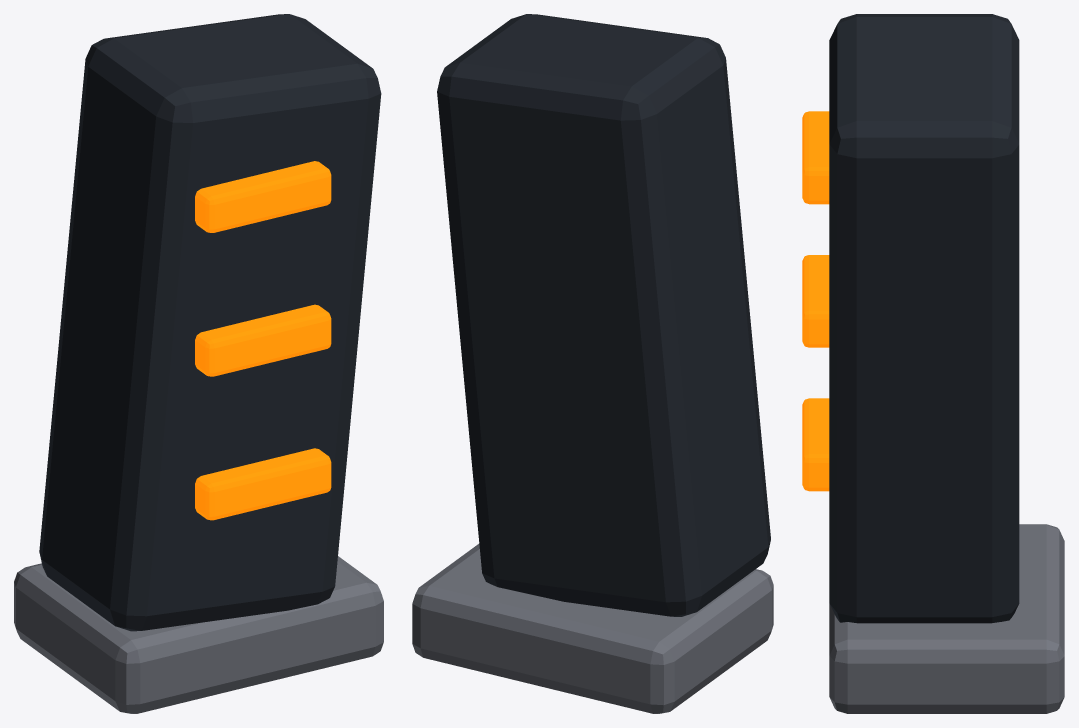
File: HellcasterMagazine.fbx
3 renders of one model, left to right at view 1: azimuth 30°, elevation 25°; view 2: azimuth 150°, elevation 25°; view 3: azimuth 270°, elevation 25°, orthographic. The views are drawn at different scales.
Visible parts, largest first — view 1: MagazineBody, MagazineBase, MagazineCharge.002, MagazineCharge.001, MagazineCharge; view 2: MagazineBody, MagazineBase; view 3: MagazineBody, MagazineBase, MagazineCharge, MagazineCharge.002, MagazineCharge.001.
Part boxes in pixels (bbox=[...]): MagazineBody: bbox=[39, 14, 381, 631]; MagazineBase: bbox=[14, 556, 383, 713]; MagazineCharge.002: bbox=[195, 161, 331, 232]; MagazineCharge.001: bbox=[195, 304, 331, 376]; MagazineCharge: bbox=[195, 448, 331, 520]; MagazineBody: bbox=[437, 14, 770, 616]; MagazineBase: bbox=[412, 543, 773, 713]; MagazineBody: bbox=[829, 14, 1019, 623]; MagazineBase: bbox=[829, 524, 1064, 713]; MagazineCharge: bbox=[802, 398, 829, 491]; MagazineCharge.002: bbox=[802, 111, 829, 204]; MagazineCharge.001: bbox=[802, 255, 829, 347].
Bounding box in the file's own units: 0.137 × 0.2968 × 0.116.
